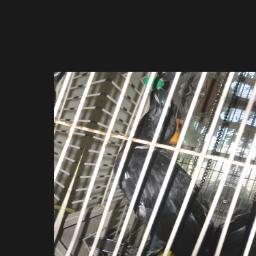Crow: (87, 83, 256, 256)
